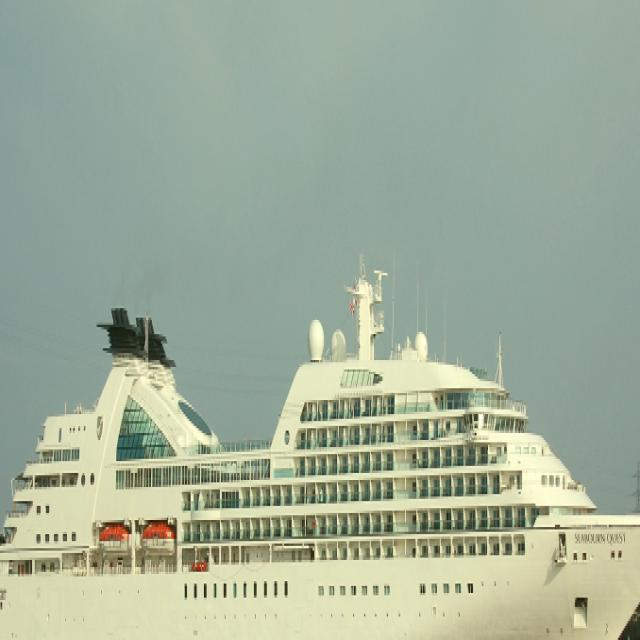cruises: (1, 250, 640, 640)
